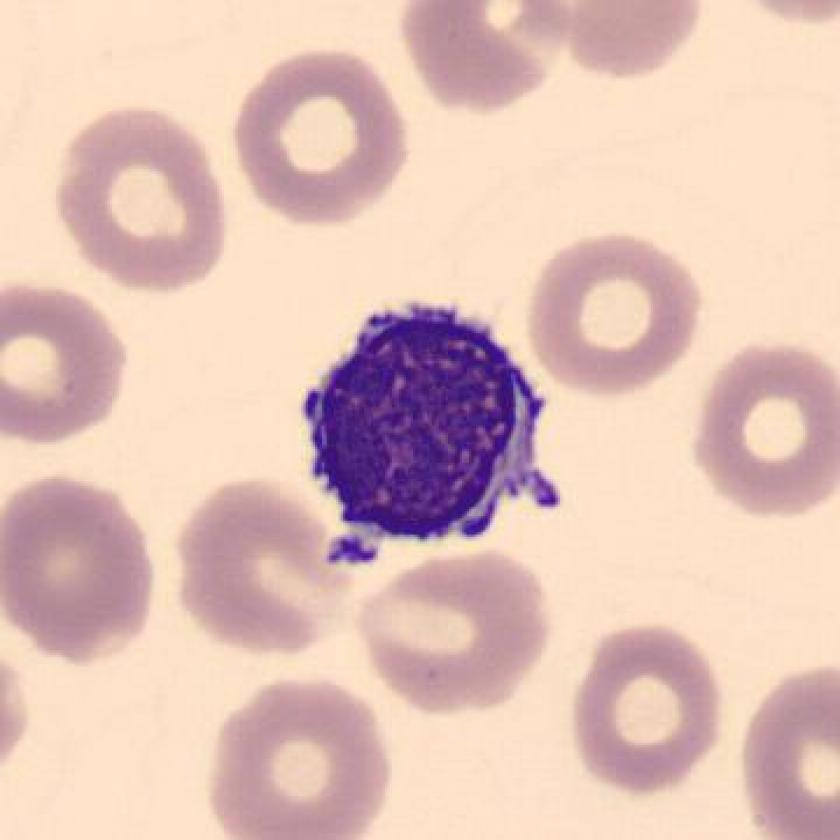lymphocyte: (279, 286, 575, 582)
